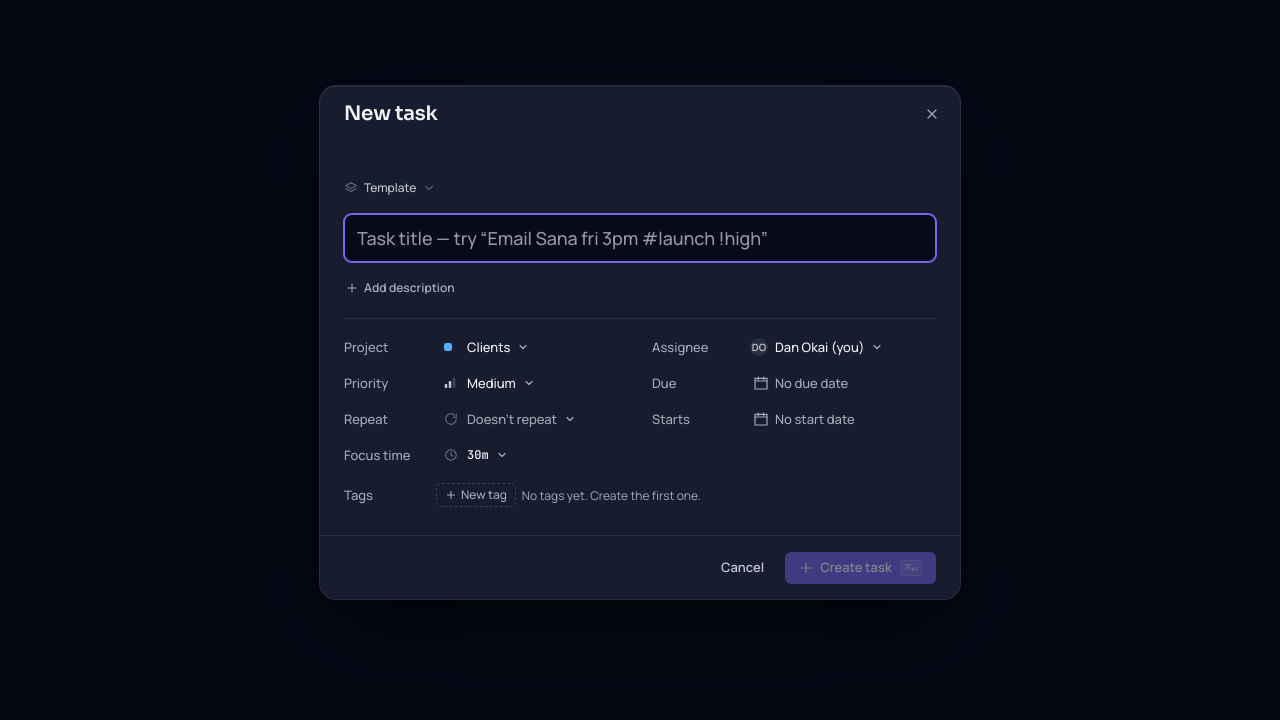
Scenario: New task from a template › Escape closes the list and keeps what was typed; the dialog stays open
In the text box labelled "Task title": {"x": 640, "y": 238} [357,224,923,252], type "/zzz"
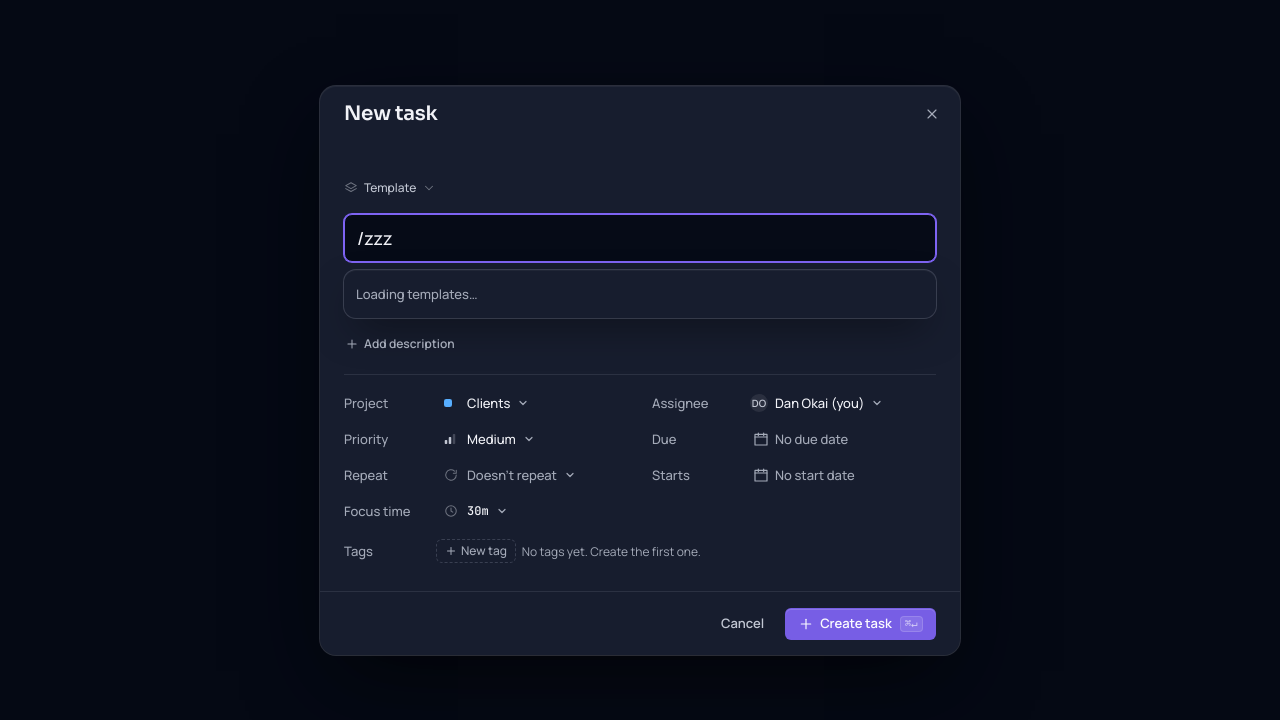
Press Escape in the text box named "Task title", box [357,224,923,252]
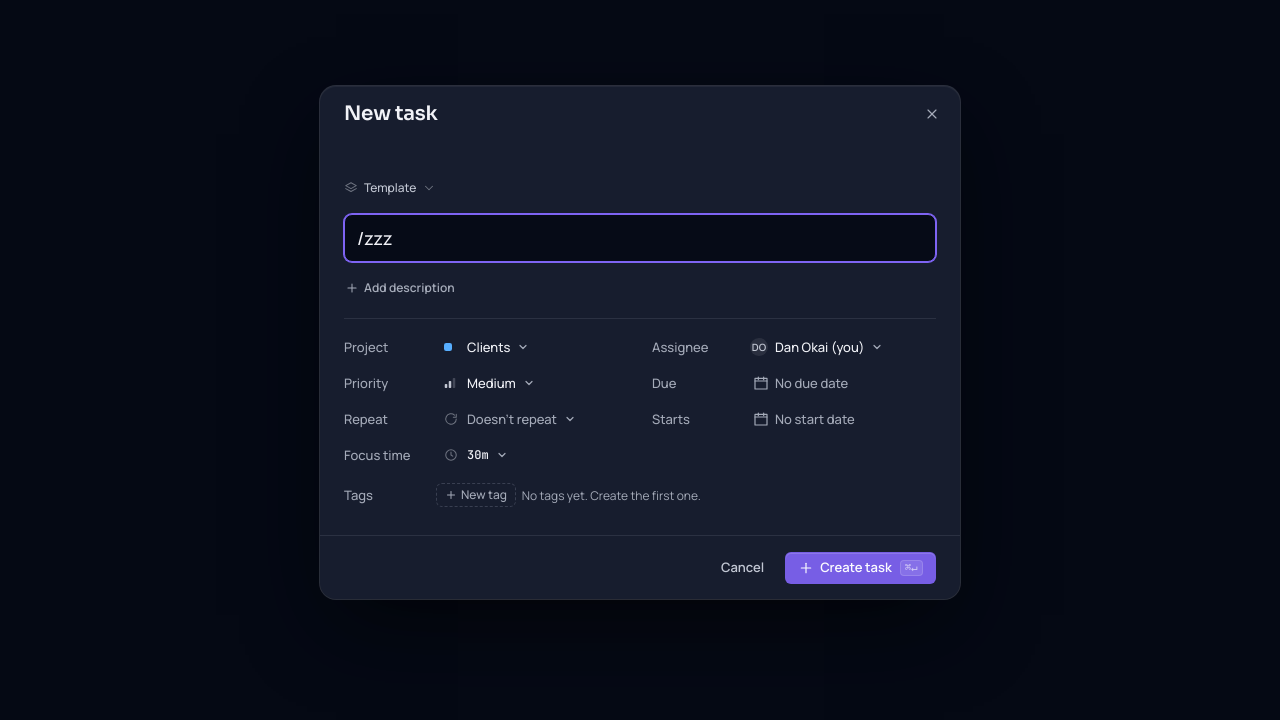
expect the dialog "New task" is shown: met, box [320,86,960,599]
expect the text "templates" is gone: met
